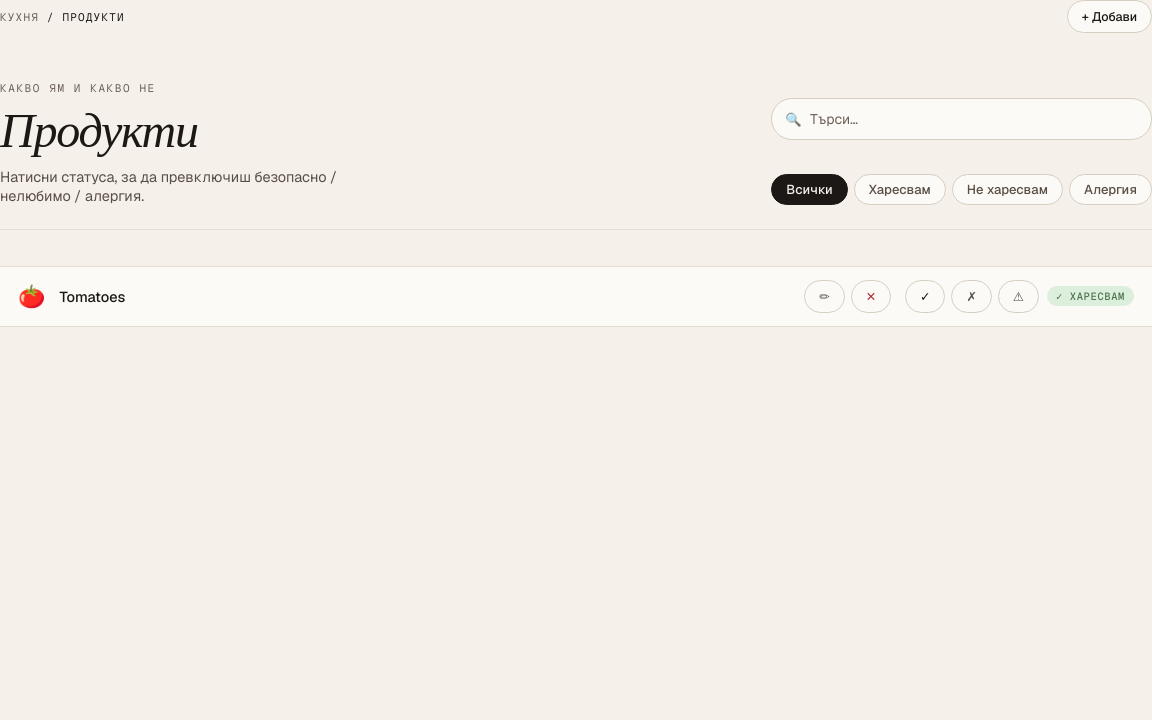
Test: ProductsScreen – delete product confirmation modal › shows Bulgarian confirmation text when lang is bg
Click the button titled "Изтрий": (871, 296) [851,280,891,313]
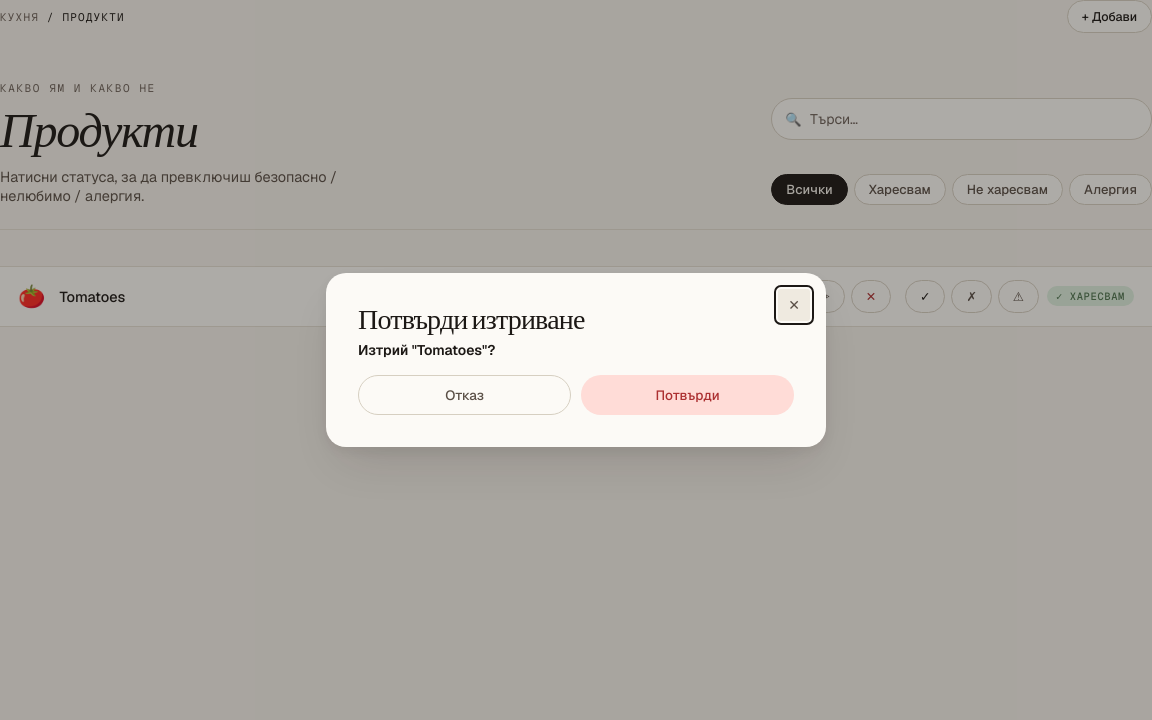
Expected: the text "Потвърди изтриване" is shown, [358,301,585,338]
Expected: the button "Потвърди" is shown, [581,375,794,415]
Expected: the button "Отказ" is shown, [358,375,571,415]
